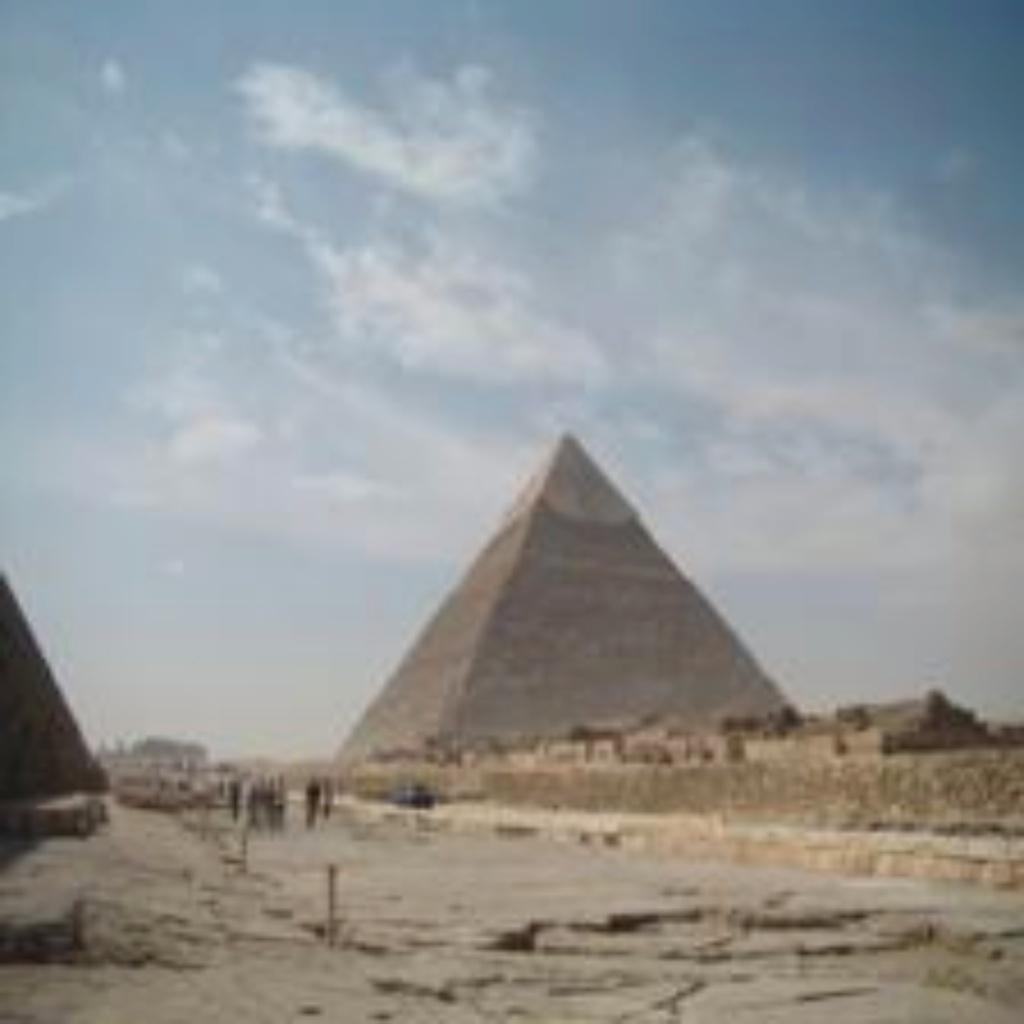Great Pyramids of Giza: (329, 425, 800, 768)
